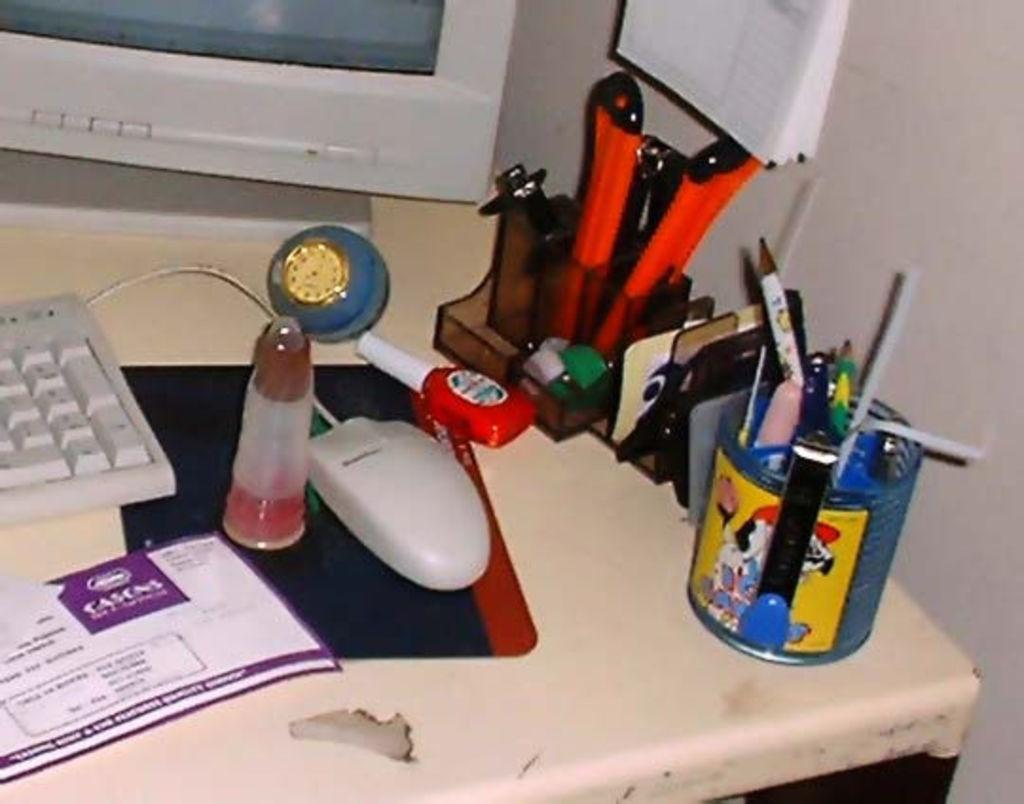Computer-mouse: (303, 411, 487, 595)
